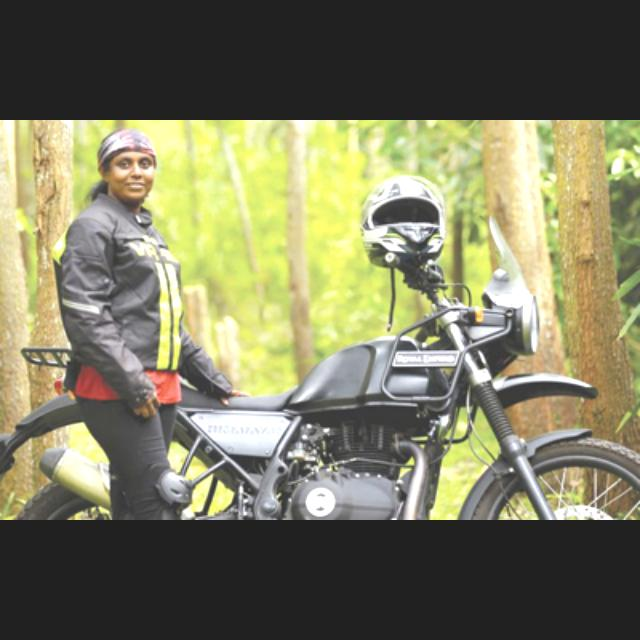Without Helmet: (86, 129, 166, 211)
